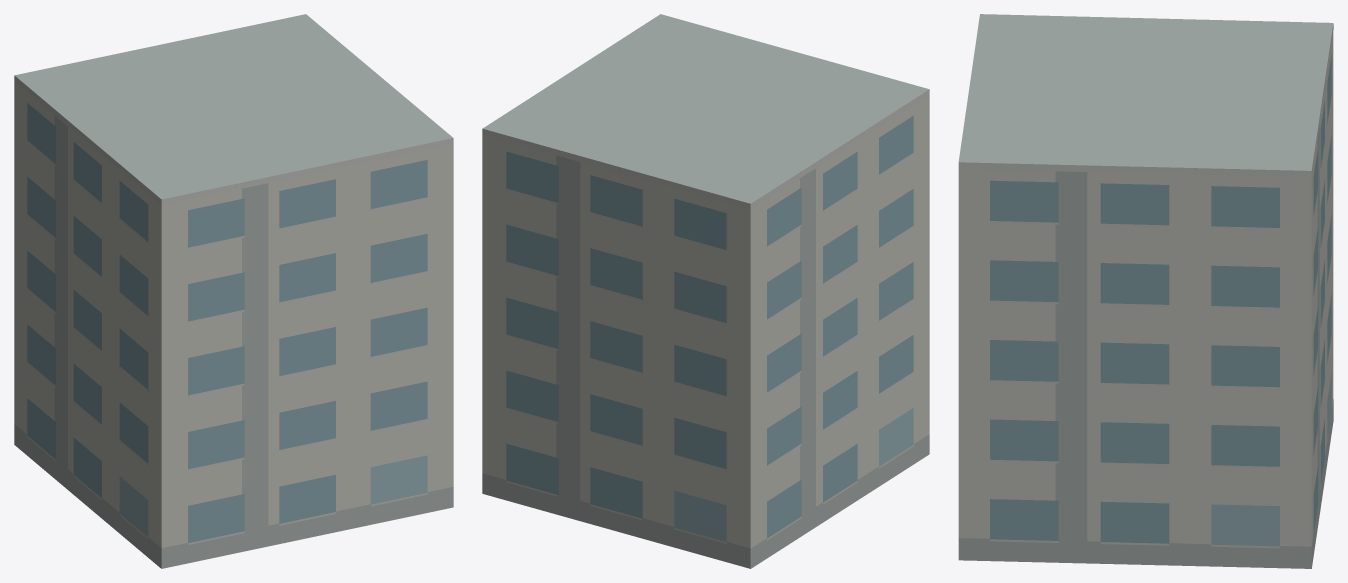
The model's file is survey-upis-32853473.glb.
The picture shows the model from 3 angles, left to right: view 1: azimuth 30°, elevation 25°; view 2: azimuth 150°, elevation 25°; view 3: azimuth 270°, elevation 25°; orthographic projection. The views are drawn at different scales.
Visible parts, largest first — view 1: survey-upis-32853473.tmp; view 2: survey-upis-32853473.tmp; view 3: survey-upis-32853473.tmp.
Part boxes in pixels (x1,y1,x2,y2): survey-upis-32853473.tmp: (14,14,453,568); survey-upis-32853473.tmp: (482,14,929,568); survey-upis-32853473.tmp: (958,14,1333,568).
Bounding box in the file's own units: 12.35 × 14.6 × 12.47.
